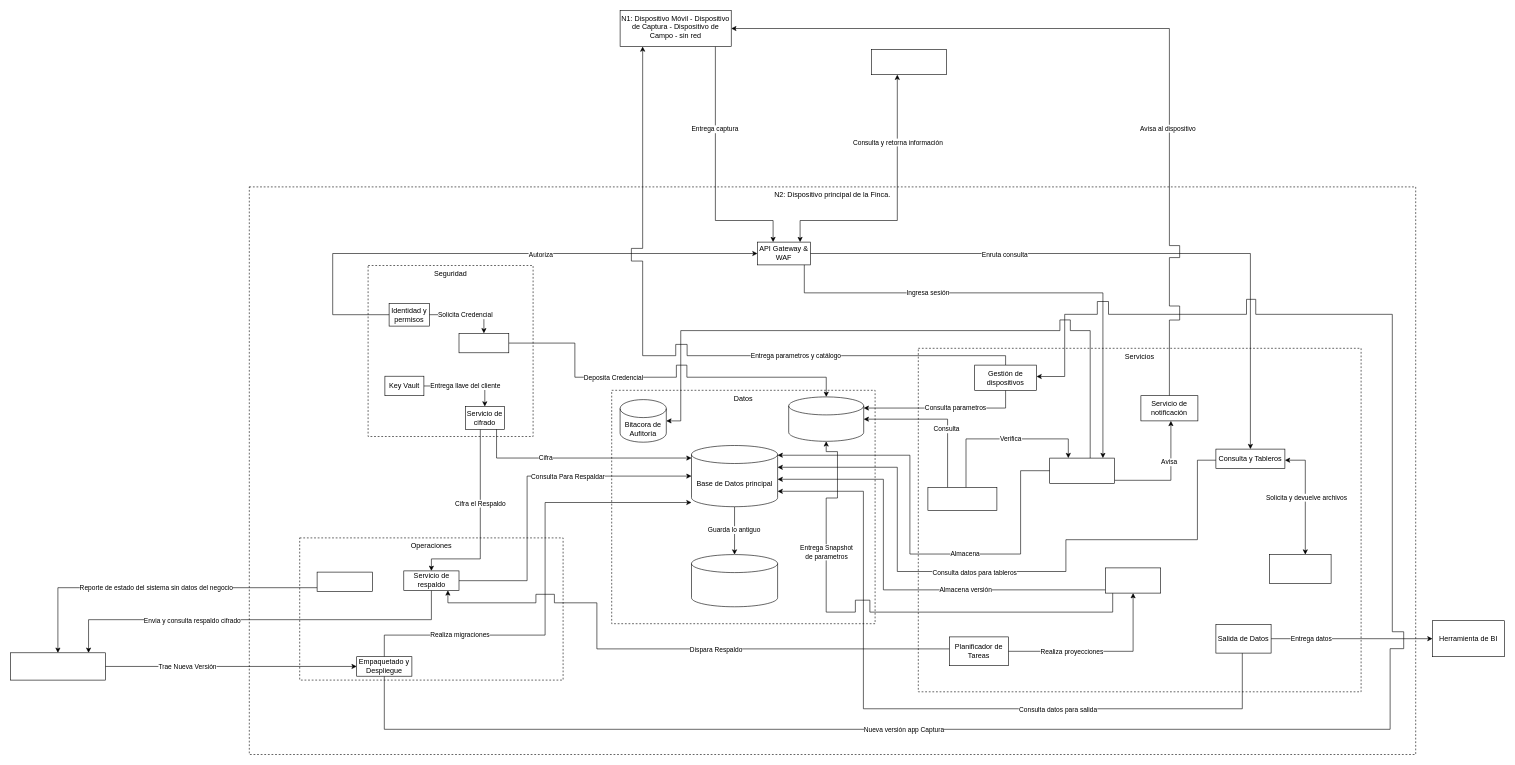
This 1515x765 diagram has some shape labels left out. Here are the shapes that lost their labels. From the top down, the centre of each, then its label:
At (x=908, y=62): "N3: Aplicativo de consulta".
At (x=483, y=343): "Emisión de credenciales".
At (x=826, y=418): "Configuración y parametrización reciente".
At (x=1081, y=470): "Ingreso de Sincronización".
At (x=962, y=498): "Reglas Instancia servidor".
At (x=344, y=582): "Observabilidad".
At (x=734, y=580): "Arcvhio Historico".
At (x=1133, y=580): "Motor de proyección".
At (x=1300, y=568): "Generador de archivos docs".
At (x=57, y=666): "N4: Servicios en línea y herramientas pagadas.".
